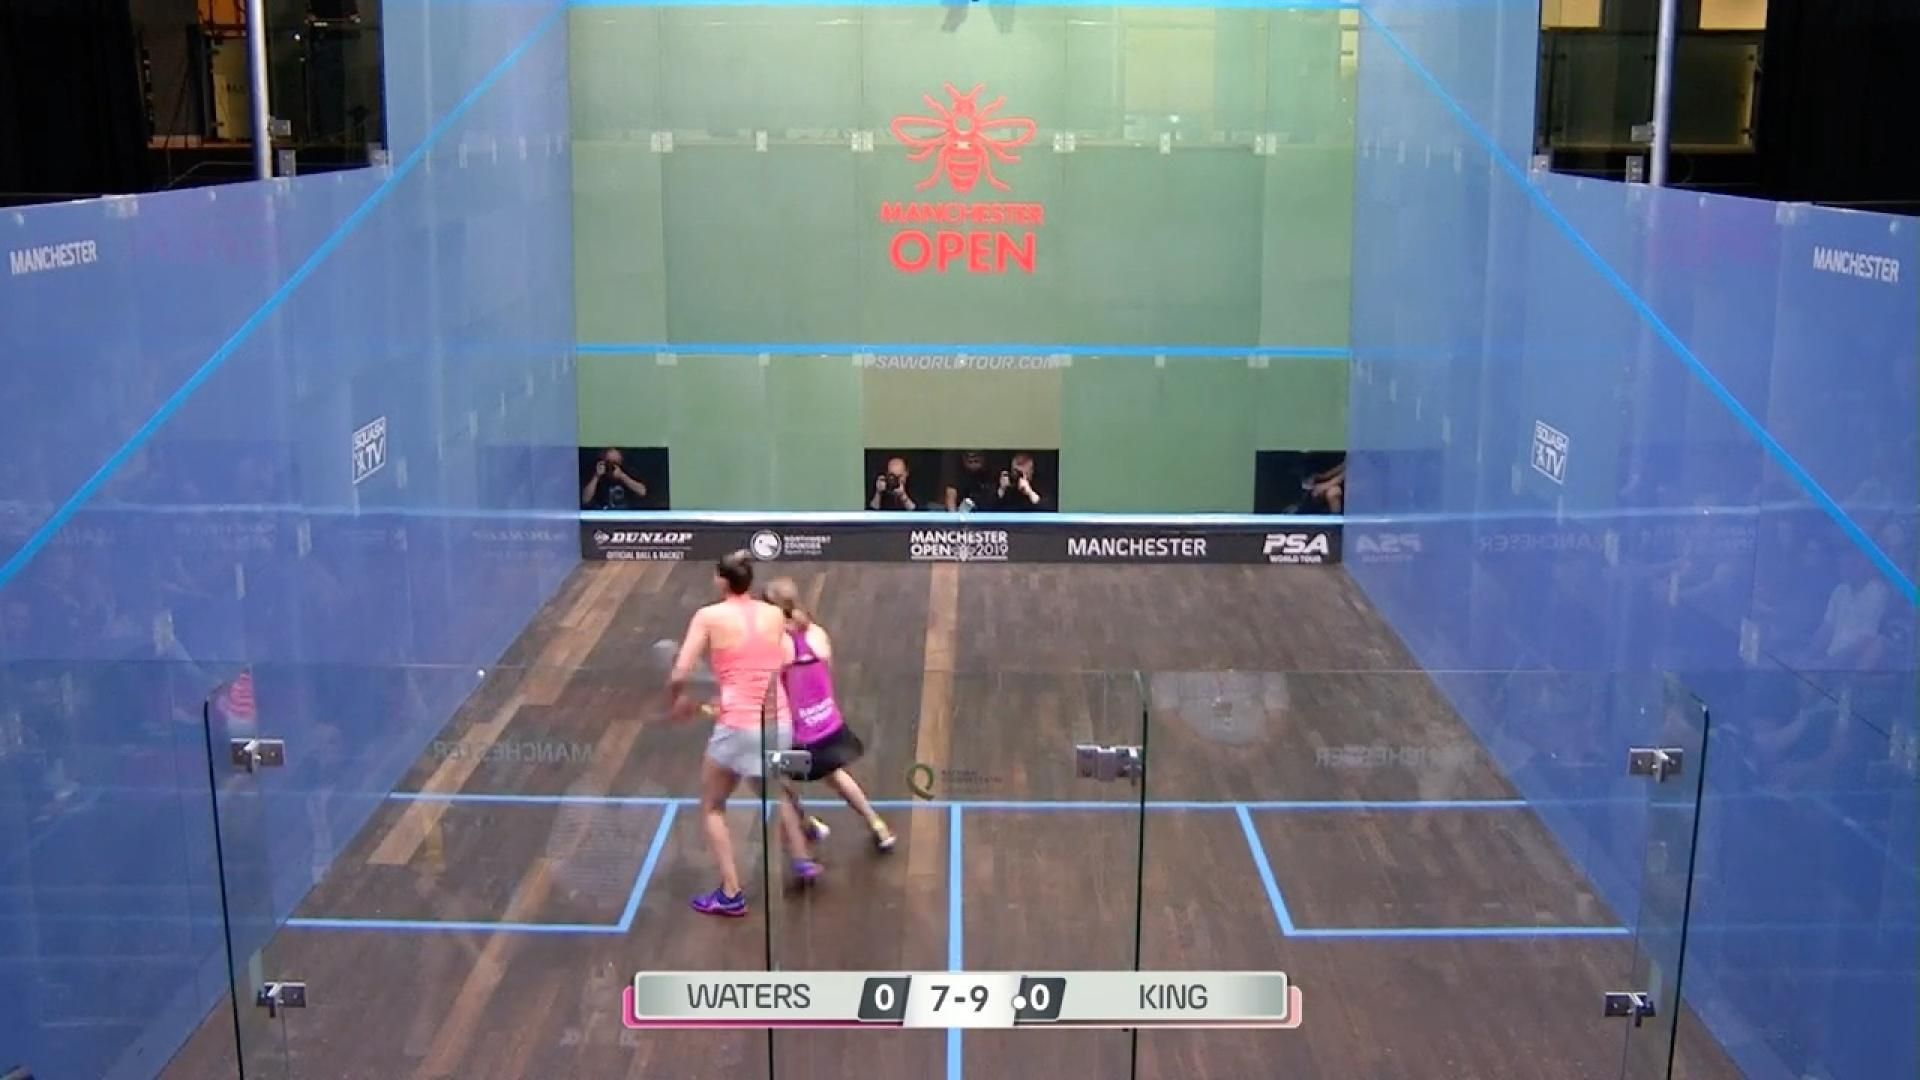Squash-Ball: (467, 647, 510, 704)
